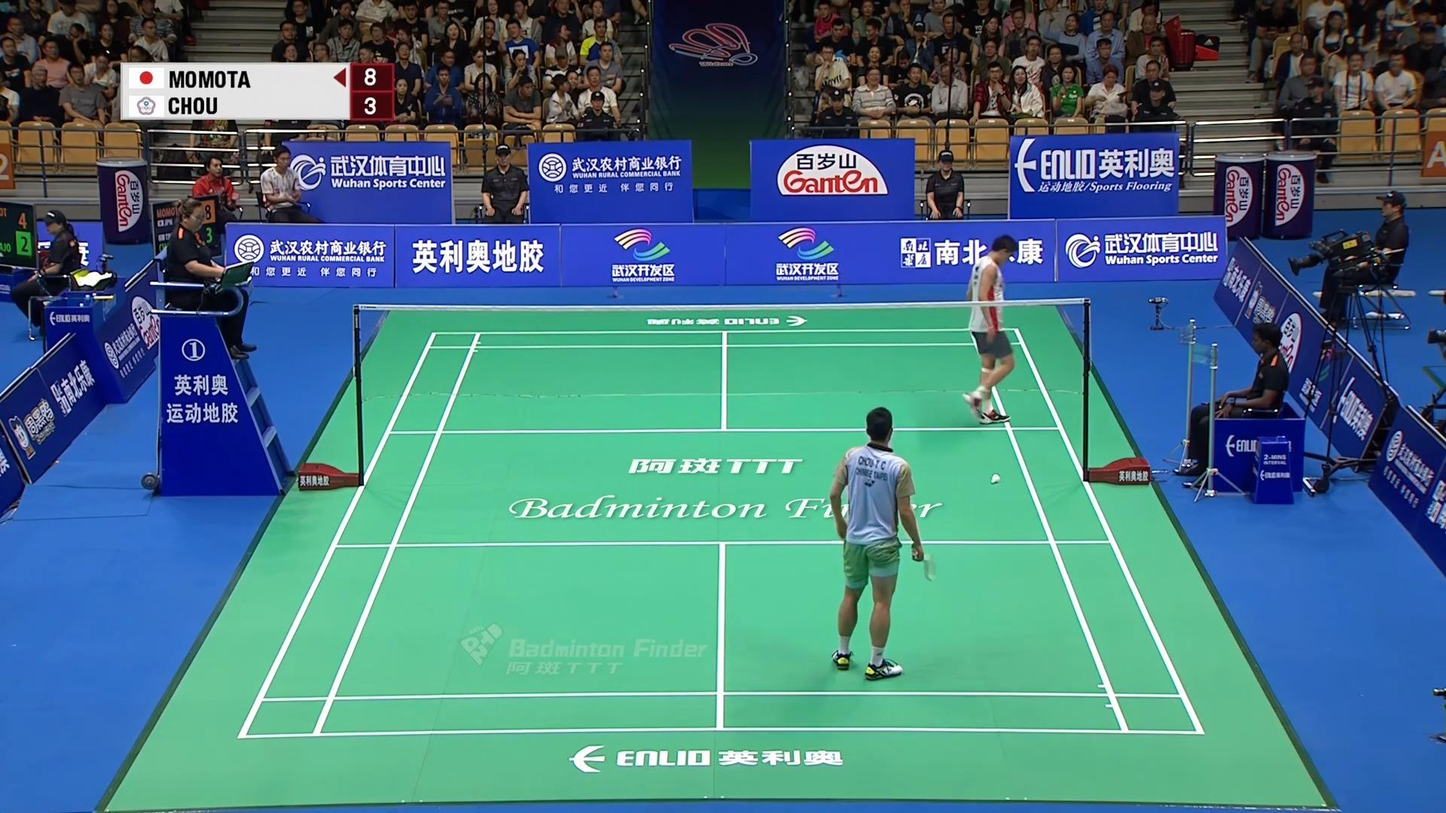player: (825, 405, 924, 684), (964, 236, 1017, 424)
